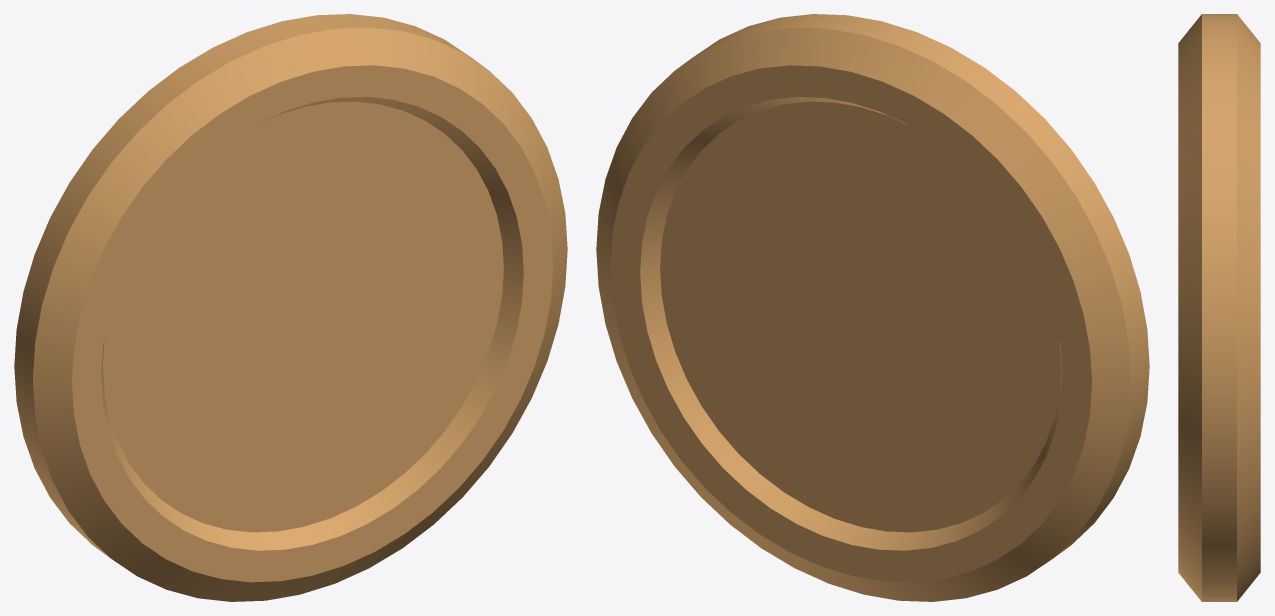
File: coin.glb
3 renders of one model, left to right at view 1: azimuth 30°, elevation 25°; view 2: azimuth 150°, elevation 25°; view 3: azimuth 270°, elevation 25°, orthographic. The views are drawn at different scales.
Parts seen in each view (by area): view 1: coin; view 2: coin; view 3: coin.
Part boxes in pixels (x1,y1,x2,y2): coin: (14,14,567,601); coin: (596,14,1149,601); coin: (1178,14,1260,601).
Bounding box in the file's own units: 0.4 × 0.4 × 0.056.
